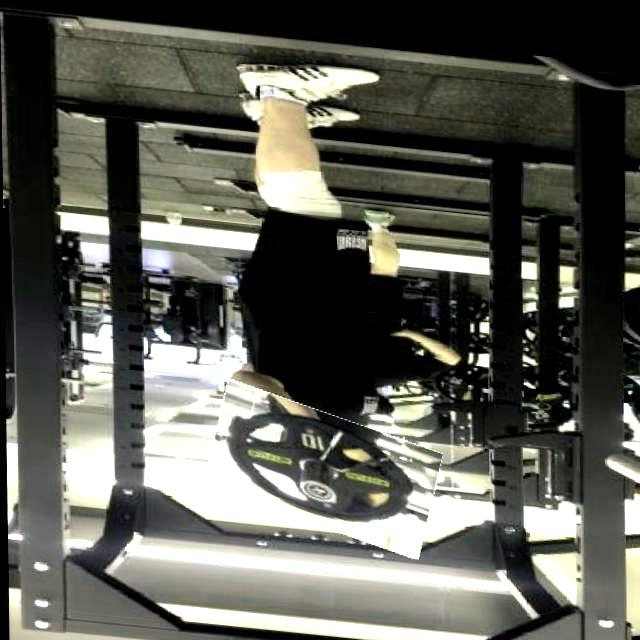barbell: (207, 385, 439, 540)
